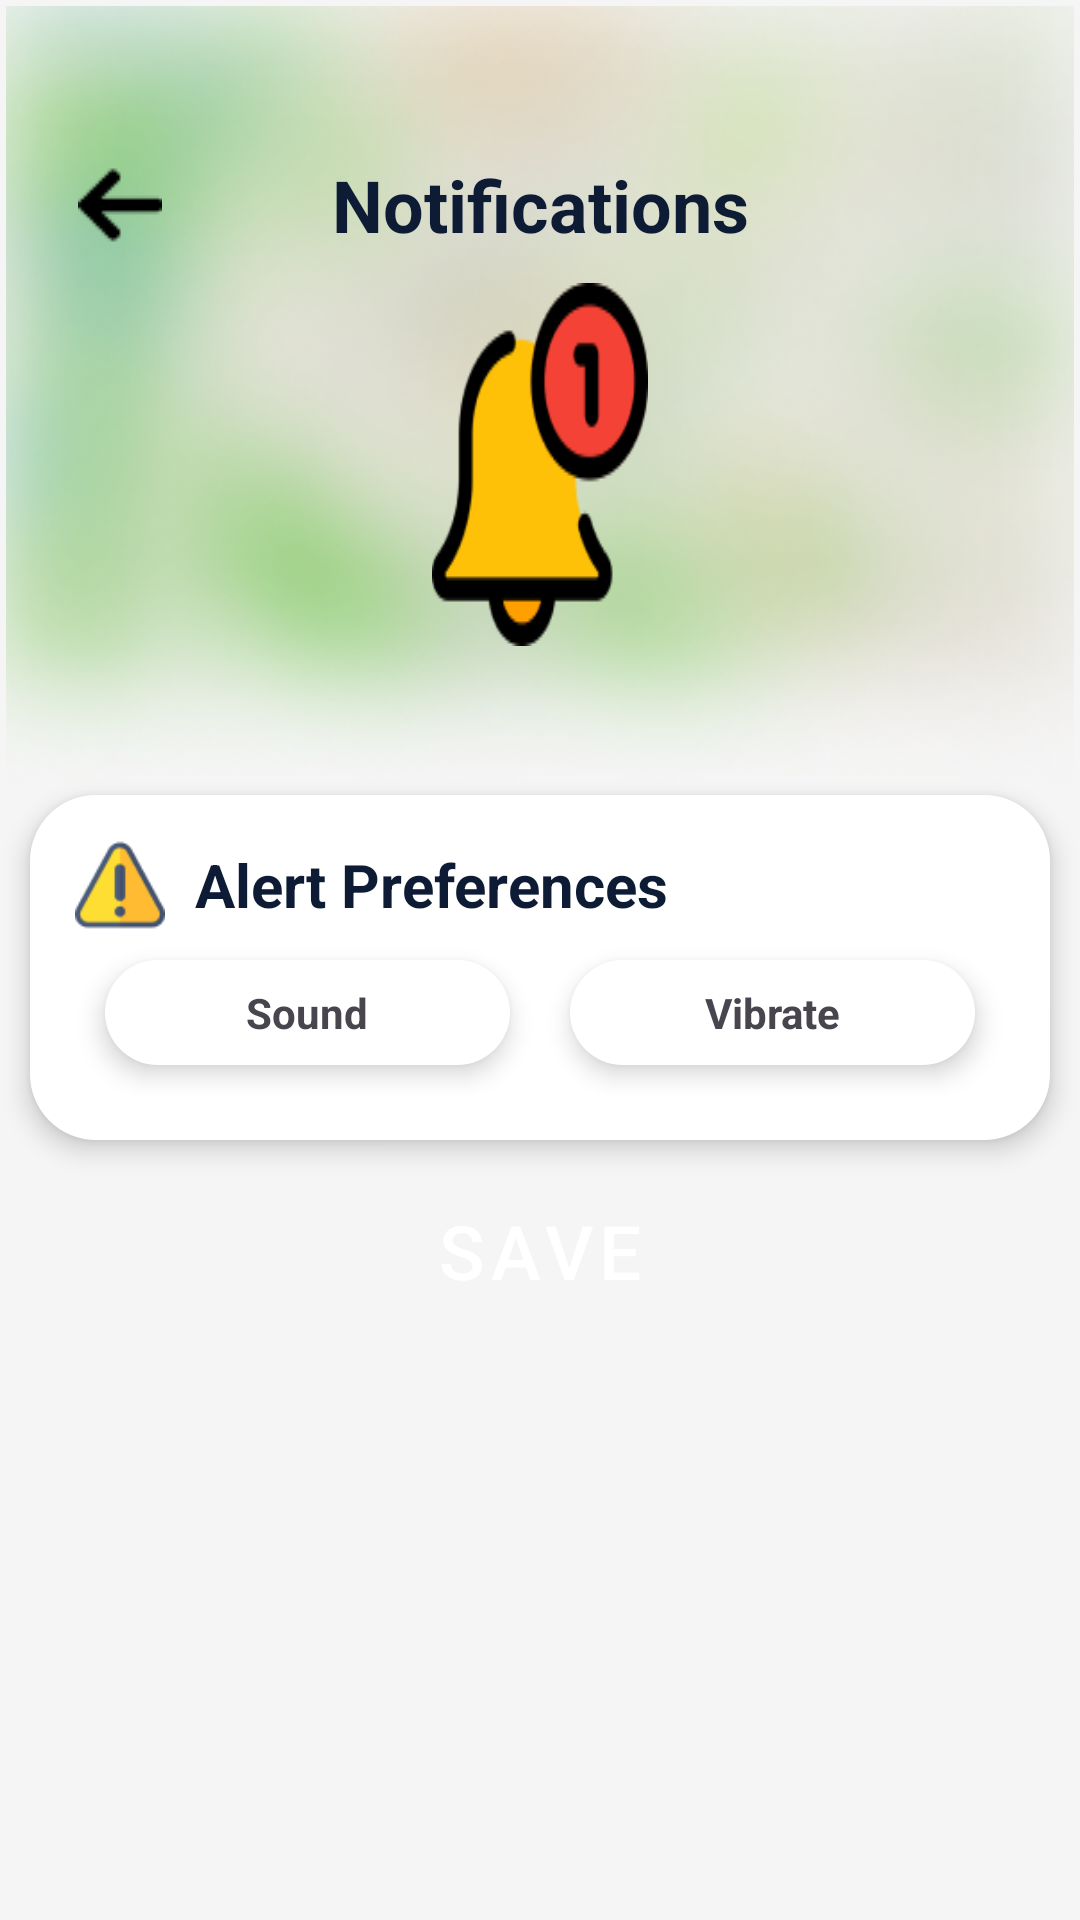

Named icons in this screenshot (1080*1920) and their bounding boxes, (x1, y1, x2, y2):
warning: (75, 841, 165, 929)
